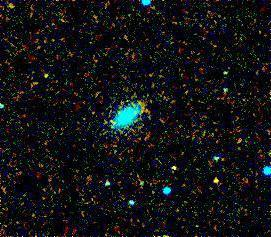star: (160, 149, 190, 179)
